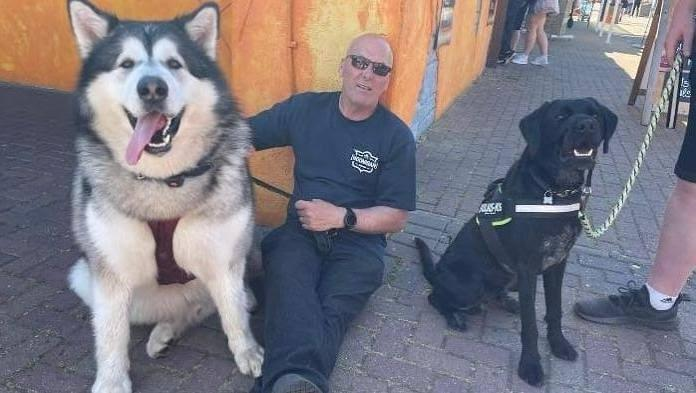adult_dog: (64, 1, 266, 393), (402, 98, 619, 388)
non-dog: (245, 32, 419, 393), (577, 0, 696, 327), (512, 0, 561, 67)
